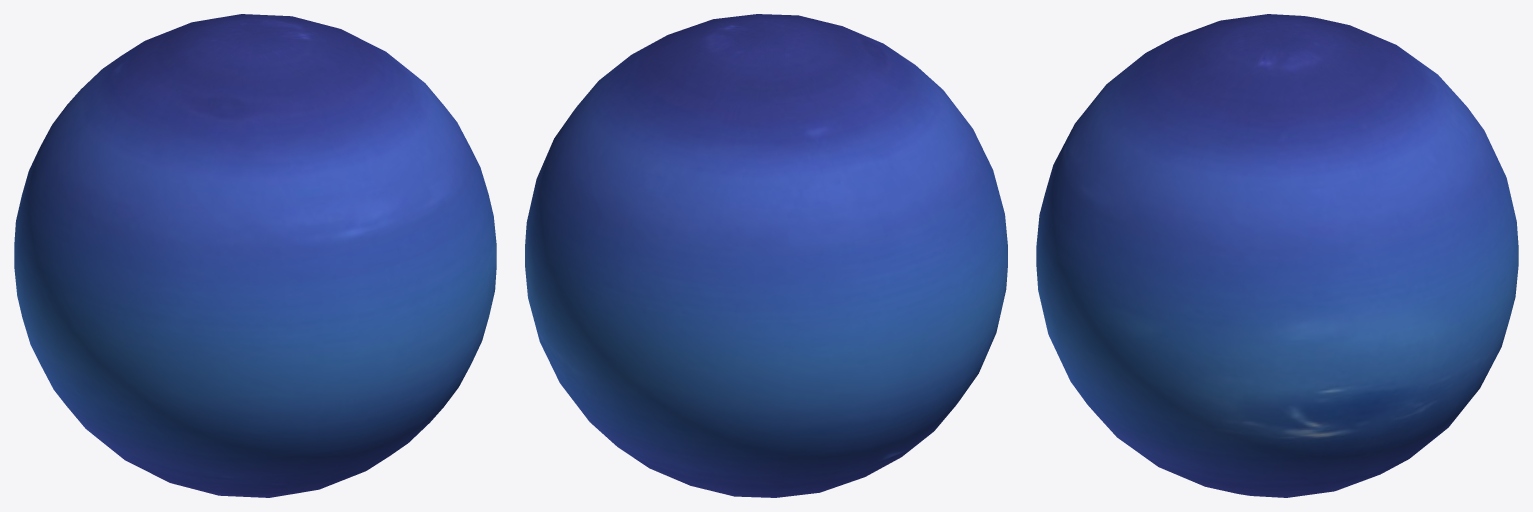
Rendered from neptune.obj.
3 renders of one model, left to right at view 1: azimuth 30°, elevation 25°; view 2: azimuth 150°, elevation 25°; view 3: azimuth 270°, elevation 25°, orthographic.
Bounding box in the file's own units: 2 × 2 × 1.99.
1 material, 1 textured.
